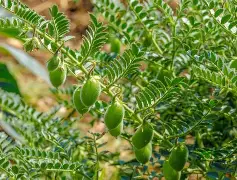crops: (0, 1, 233, 178)
